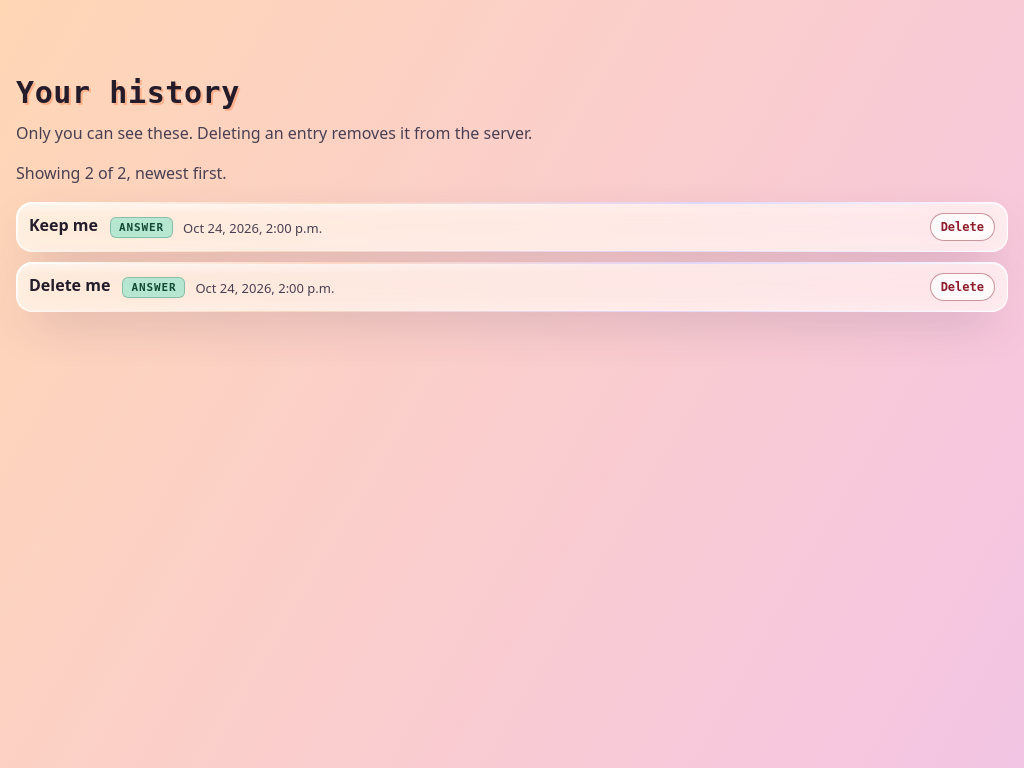
HistoryView › deletes through the API and removes the row
The width and height of the screenshot is (1024, 768).
Click the button with aria-label "Delete “Delete me”".
click(962, 287)  # box x1=930 y1=273 x2=995 y2=301
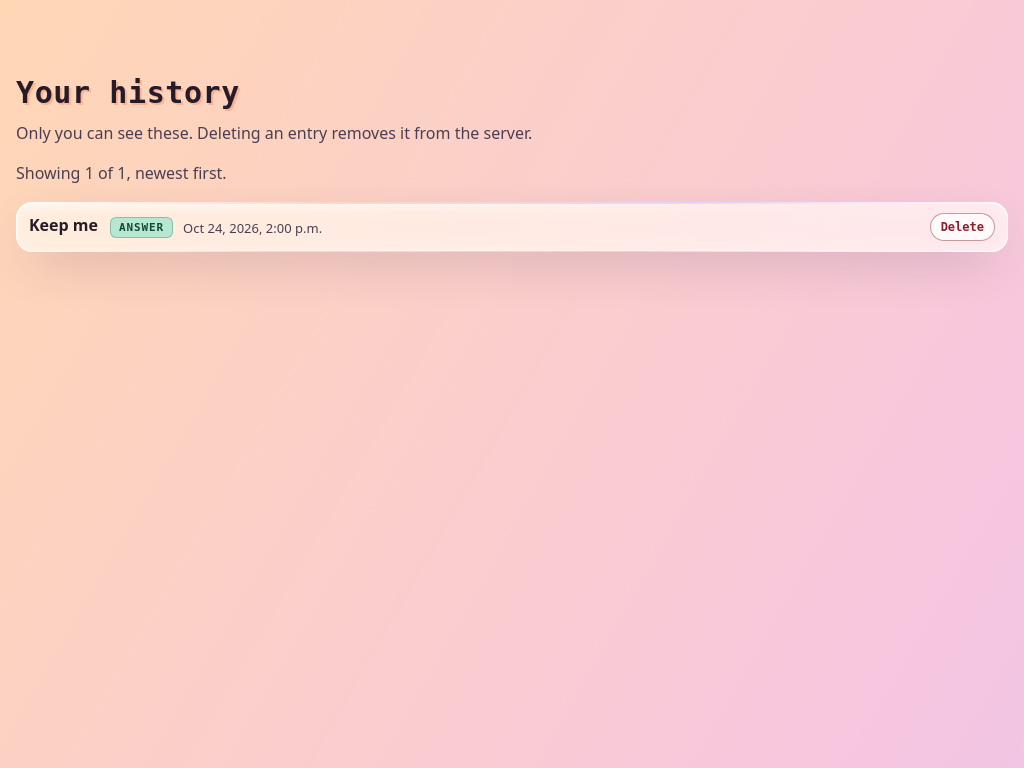
Expected: the text "Keep me" is shown, x1=29 y1=213 x2=98 y2=238
Expected: the heading "Delete me" is gone
Expected: the text "Showing 1 of 1, newest first." is shown, x1=16 y1=162 x2=227 y2=184
